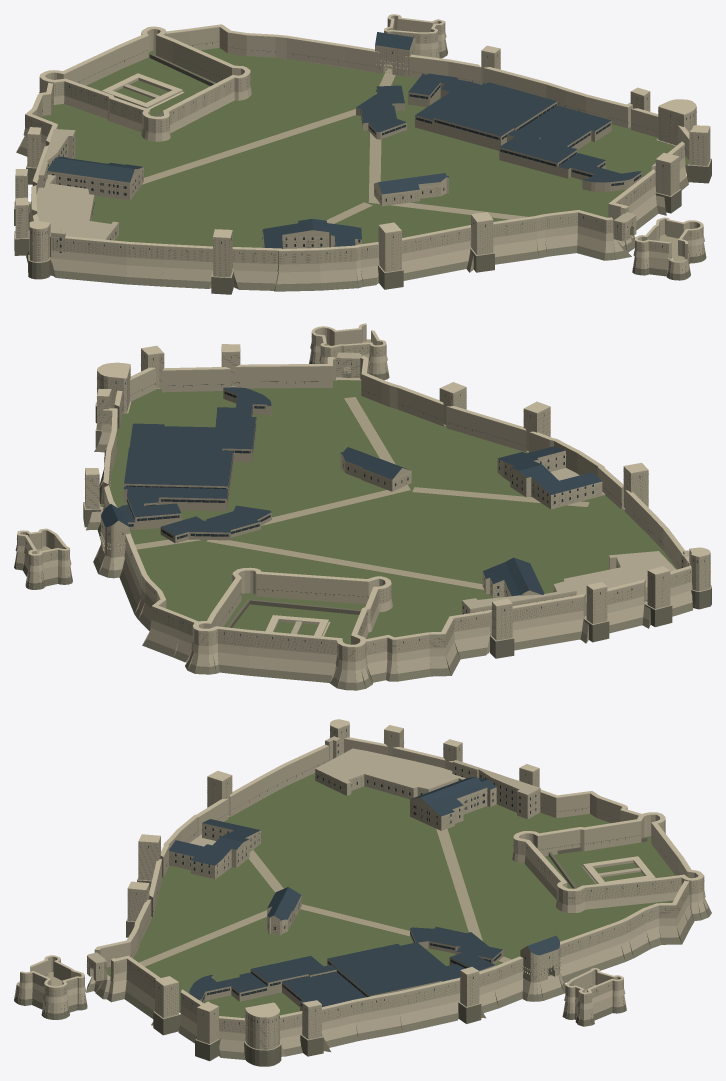
The model's file is chateau-de-caen-near.glb.
The picture shows the model from 3 angles, top to bottom: view 1: azimuth 30°, elevation 25°; view 2: azimuth 150°, elevation 25°; view 3: azimuth 270°, elevation 25°; orthographic projection. The views are drawn at different scales.
Visible parts, largest first — view 1: chateau-de-caen-0-stone, chateau-de-caen-0-bailey, chateau-de-caen-0-slate, chateau-de-caen-0-course, chateau-de-caen-0-trim, chateau-de-caen-0-modern, chateau-de-caen-0-gravel, chateau-de-caen-0-glass; view 2: chateau-de-caen-0-bailey, chateau-de-caen-0-stone, chateau-de-caen-0-slate, chateau-de-caen-0-trim, chateau-de-caen-0-course, chateau-de-caen-0-gravel, chateau-de-caen-0-modern, chateau-de-caen-0-glass; view 3: chateau-de-caen-0-bailey, chateau-de-caen-0-stone, chateau-de-caen-0-slate, chateau-de-caen-0-trim, chateau-de-caen-0-course, chateau-de-caen-0-gravel, chateau-de-caen-0-modern, chateau-de-caen-0-glass.
Part boxes in pixels (bbox=[...]): chateau-de-caen-0-stone: bbox=[14, 16, 711, 289]; chateau-de-caen-0-bailey: bbox=[28, 48, 689, 267]; chateau-de-caen-0-slate: bbox=[48, 32, 641, 248]; chateau-de-caen-0-course: bbox=[14, 22, 711, 294]; chateau-de-caen-0-trim: bbox=[15, 14, 710, 255]; chateau-de-caen-0-modern: bbox=[356, 82, 641, 191]; chateau-de-caen-0-gravel: bbox=[142, 68, 684, 261]; chateau-de-caen-0-glass: bbox=[21, 34, 698, 255]; chateau-de-caen-0-bailey: bbox=[100, 380, 677, 644]; chateau-de-caen-0-stone: bbox=[14, 325, 711, 688]; chateau-de-caen-0-slate: bbox=[101, 387, 601, 596]; chateau-de-caen-0-trim: bbox=[17, 323, 710, 647]; chateau-de-caen-0-course: bbox=[14, 338, 711, 690]; chateau-de-caen-0-gravel: bbox=[37, 341, 589, 589]; chateau-de-caen-0-modern: bbox=[123, 389, 271, 543]; chateau-de-caen-0-glass: bbox=[26, 347, 704, 644]; chateau-de-caen-0-bailey: bbox=[107, 773, 674, 1017]; chateau-de-caen-0-stone: bbox=[14, 724, 711, 1058]; chateau-de-caen-0-slate: bbox=[169, 776, 559, 1006]; chateau-de-caen-0-trim: bbox=[20, 719, 704, 1024]; chateau-de-caen-0-course: bbox=[14, 728, 711, 1066]; chateau-de-caen-0-gravel: bbox=[46, 828, 595, 992]; chateau-de-caen-0-modern: bbox=[189, 929, 503, 1011]; chateau-de-caen-0-glass: bbox=[42, 729, 671, 1024].
Size of the model in its own units: 316 by 27 by 312.
